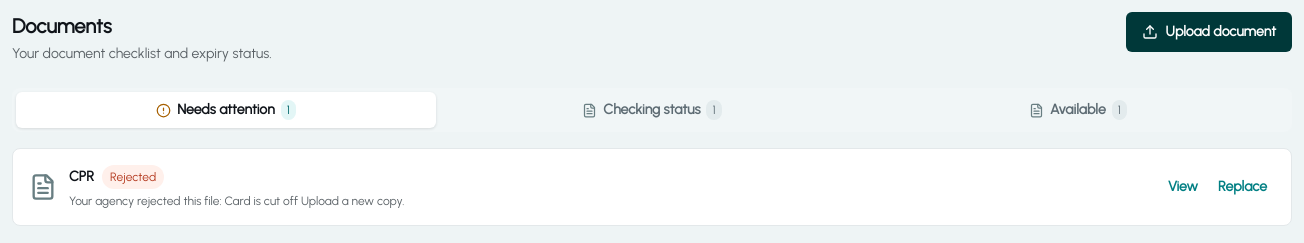
Test: grouped dashboard documents › shows the agency review of uploaded files
The image size is (1304, 243).
Expected: the text "Rejected" is shown, [102,165,164,189]
Expected: the text "Your agency rejected this file: Card is cut off Upload a new copy." is shown, [69,194,404,208]
Step 1. Press the mouse on the tab "Checking status 1" → coordinates (652, 110), box [442,92,862,128]
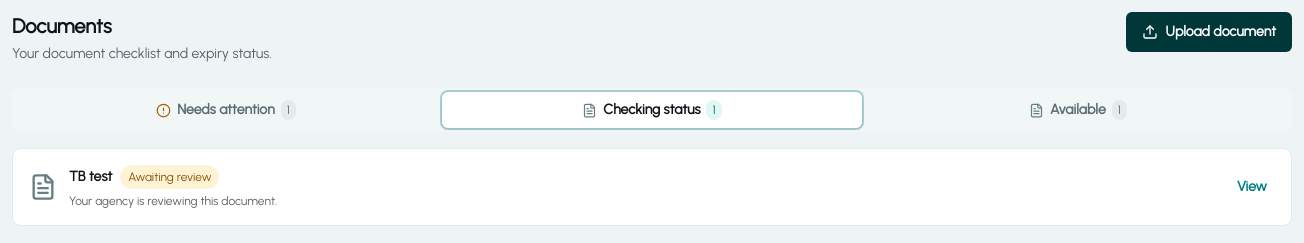
Now the text "Awaiting review" is shown, box [120,165,219,189]
Now the text "Your agency is reviewing this document." is shown, box [69,194,277,208]
